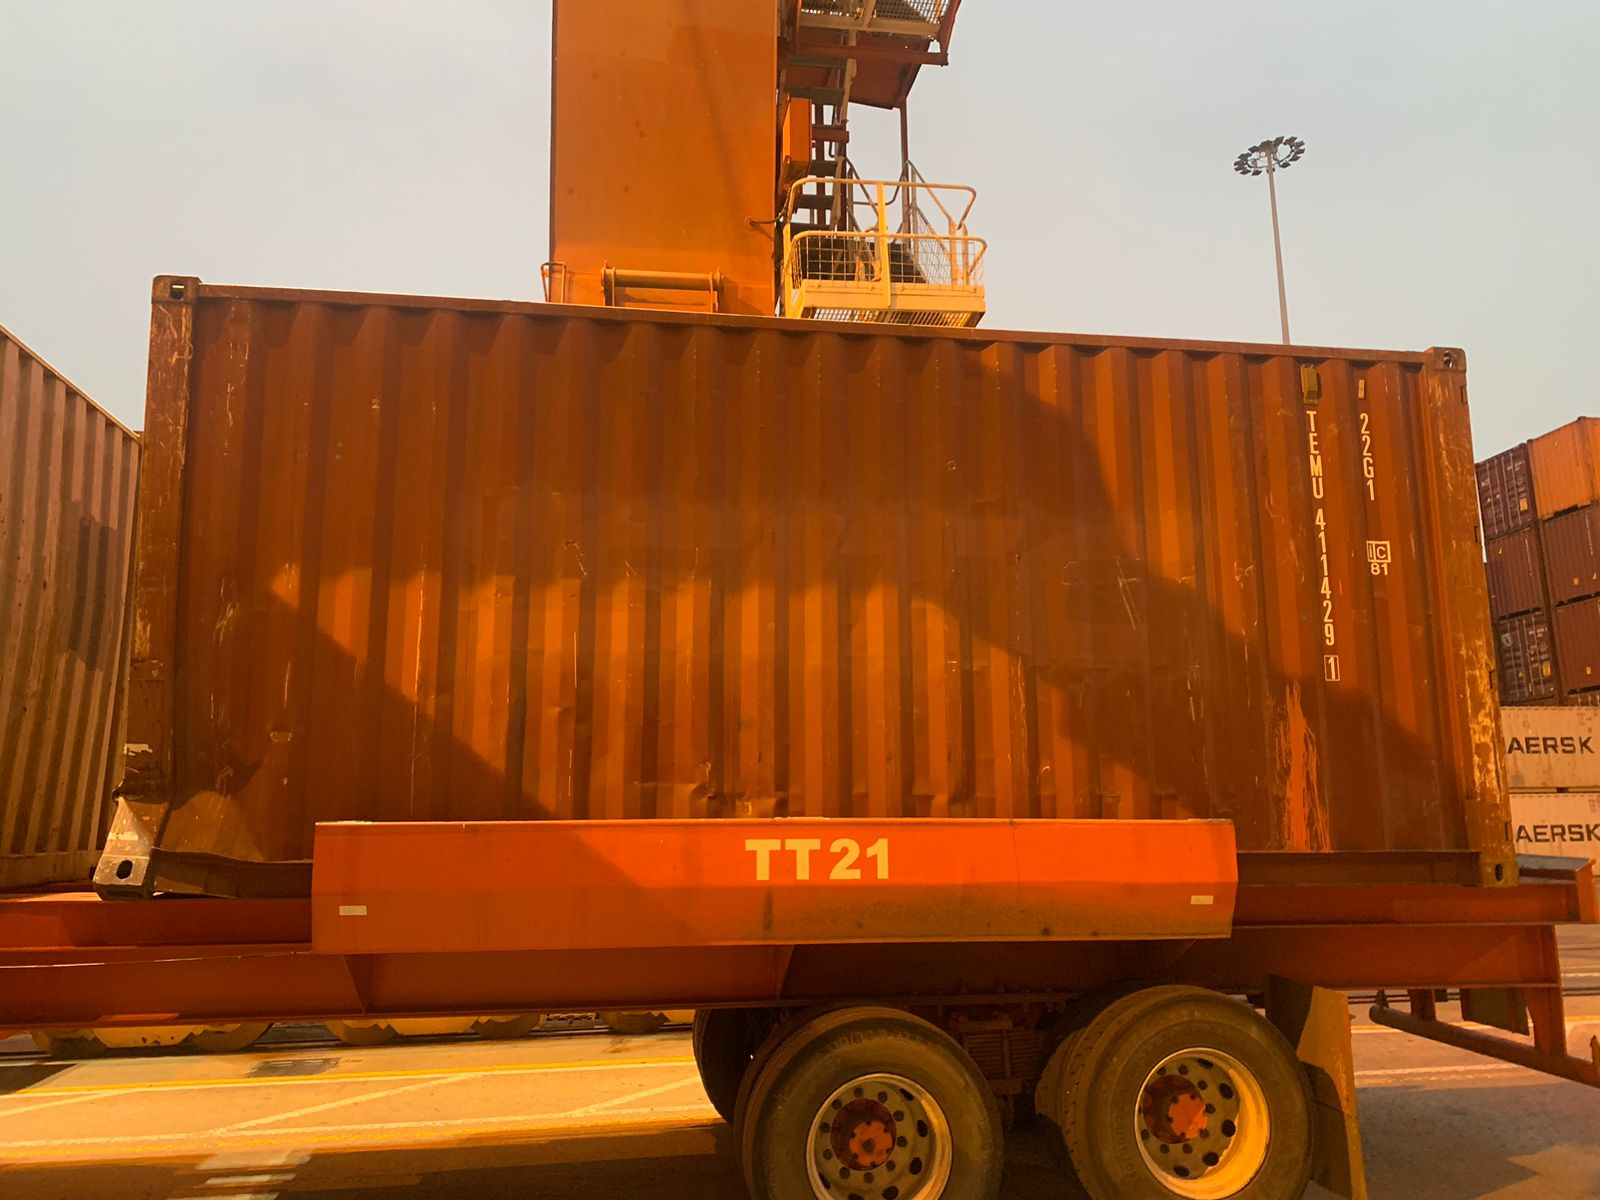dented: (646, 750, 1175, 811), (87, 741, 281, 856)
